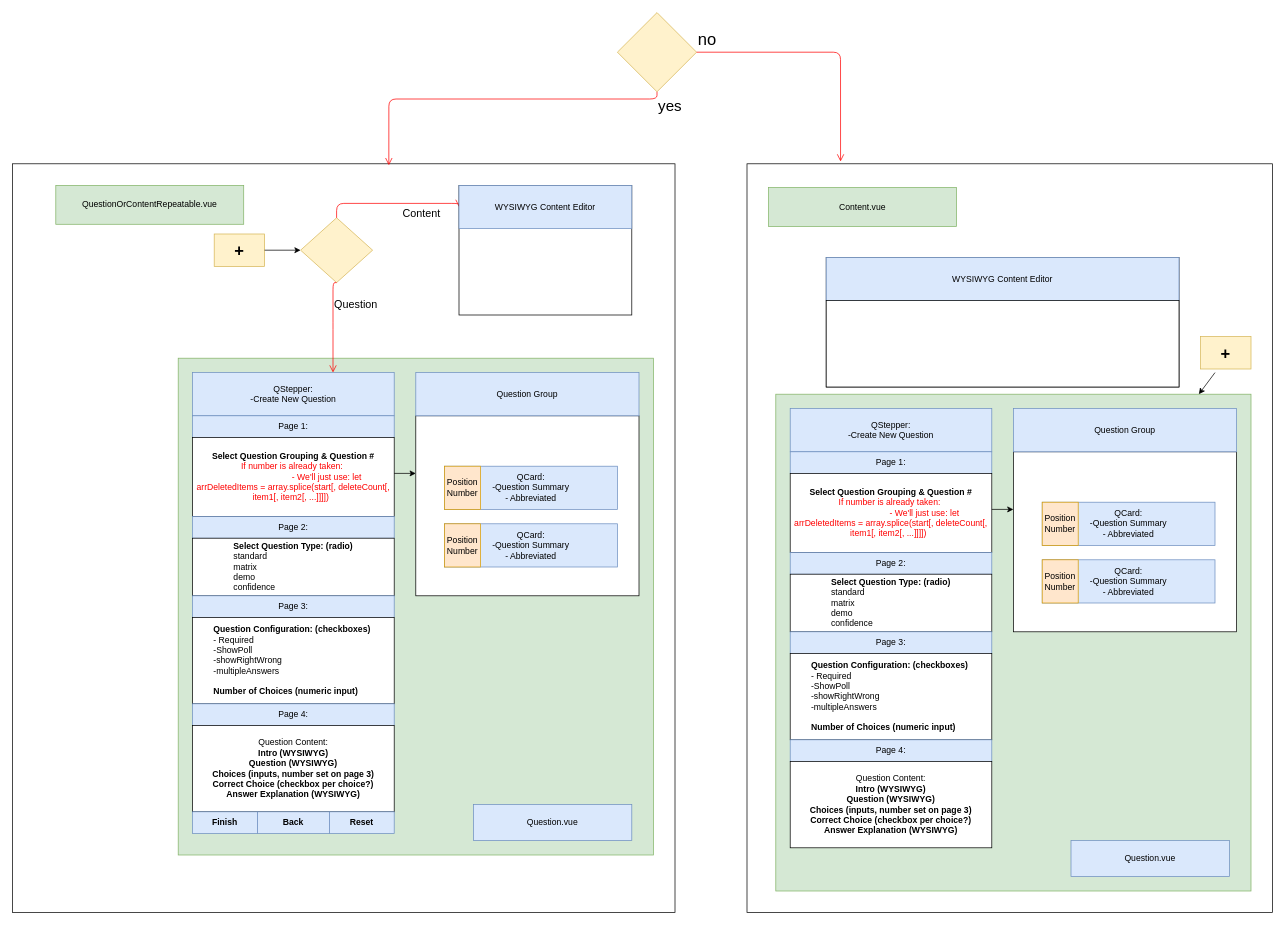
Image size: 1285x925. Some labels were removed from this diagram. The centre of each missing label's shape, as x and y in pixels:
interQ?: the point at 657,52
Question or Content: the point at 336,250
Single static Editor component: the point at 1002,343
